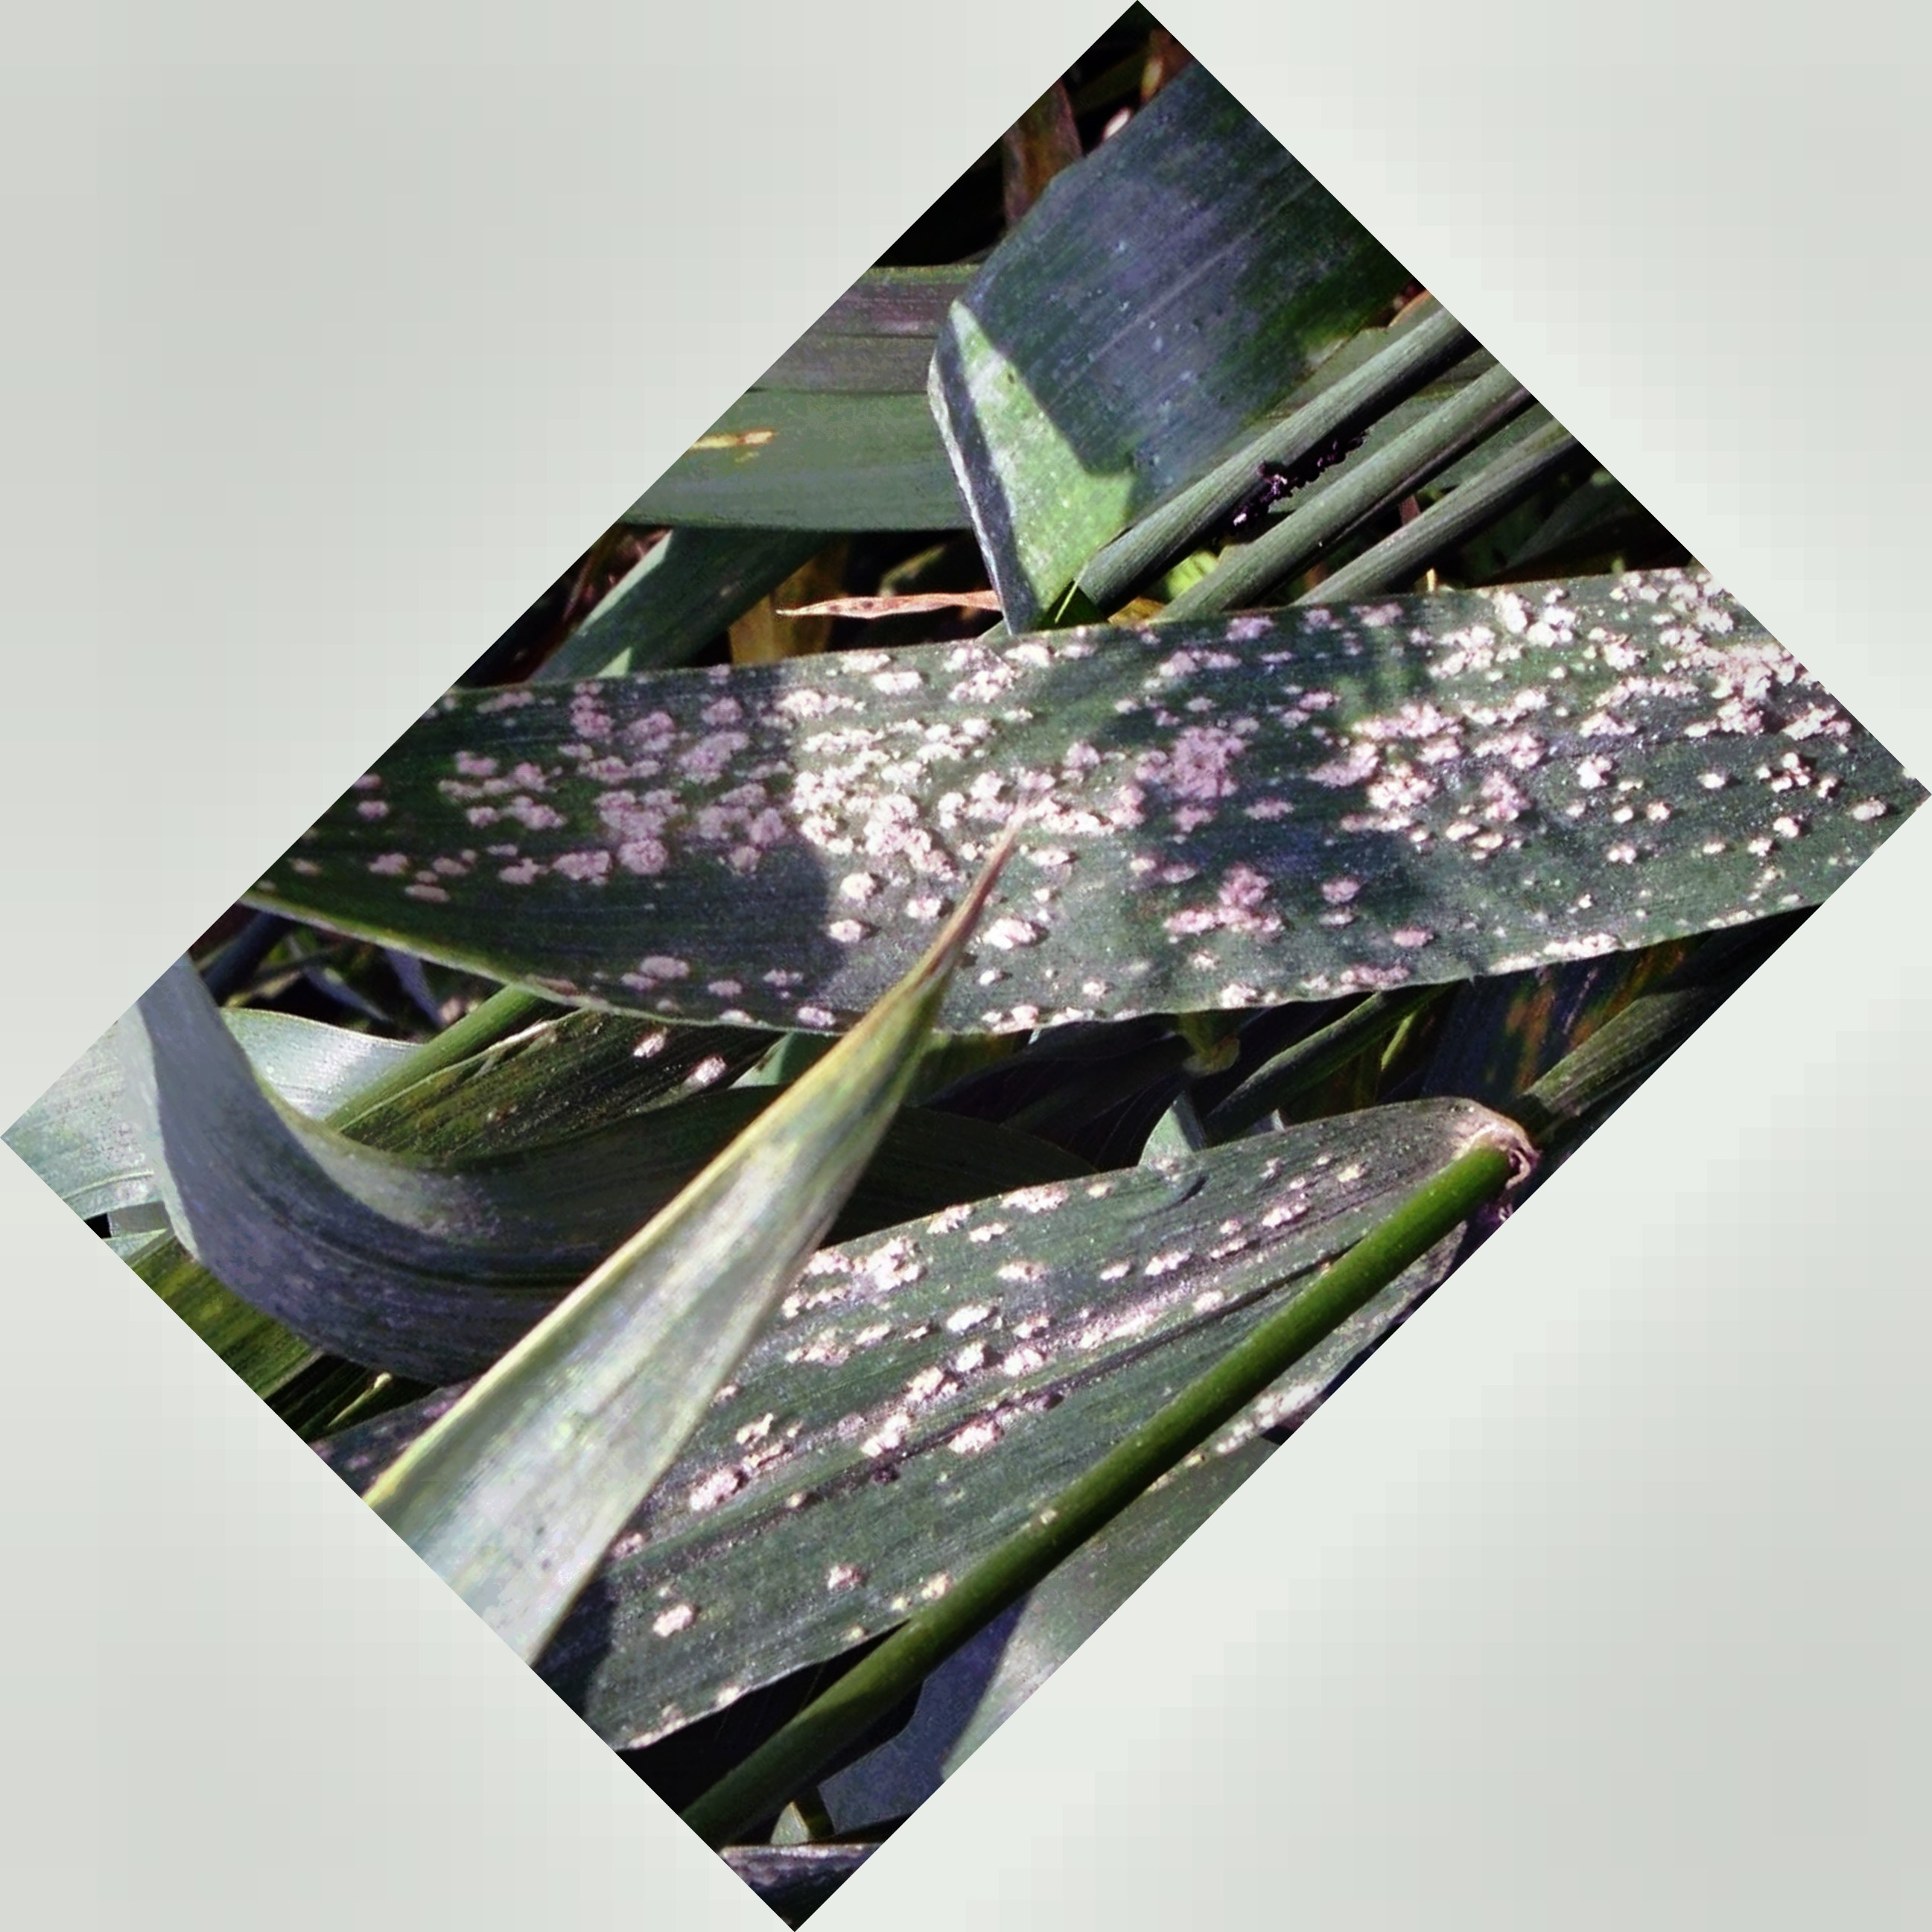Powdery Mildew: (407, 533, 1882, 1023), (717, 1159, 1316, 1568)
